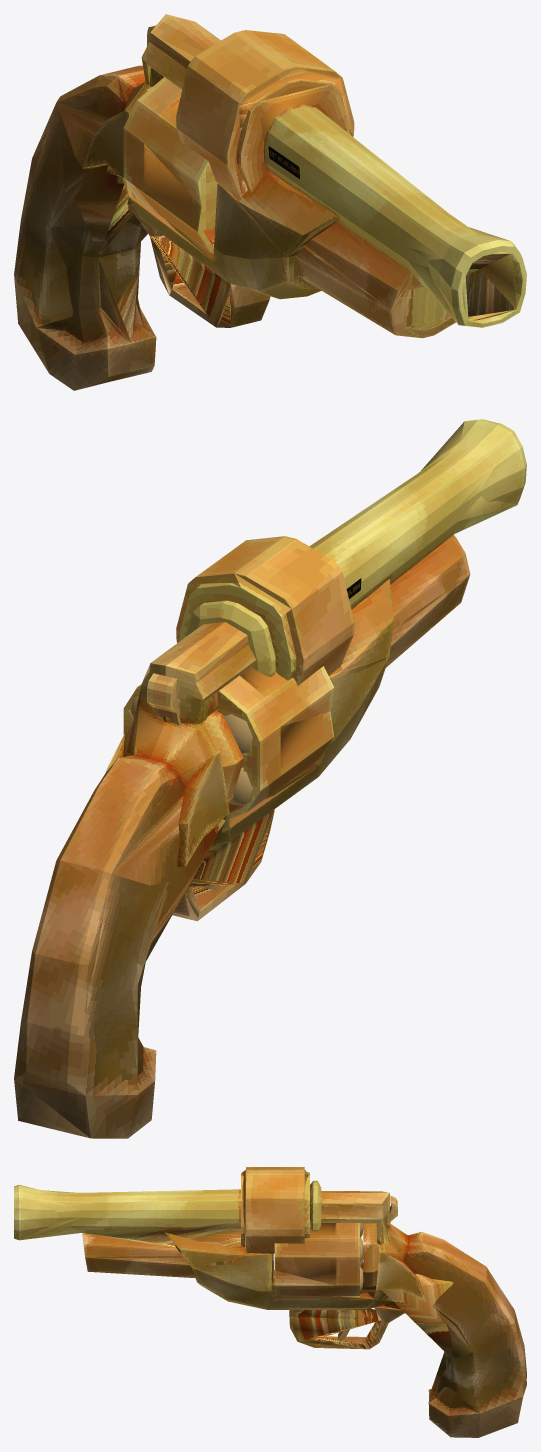
The model's file is item_revolver_gold.glb.
3 views of the same model, one above another, from view 1: azimuth 30°, elevation 25°; view 2: azimuth 150°, elevation 25°; view 3: azimuth 270°, elevation 25° (orthographic). The views are drawn at different scales.
Visible parts, largest first — view 1: RevolverMain, RevolverCylinder; view 2: RevolverMain, RevolverCylinder, RevolverHammer; view 3: RevolverMain, RevolverCylinder.
Part boxes in pixels (x1,y1,x2,y2): RevolverMain: (14, 14, 526, 390); RevolverCylinder: (123, 77, 217, 253); RevolverMain: (14, 419, 526, 1138); RevolverCylinder: (123, 666, 334, 818); RevolverHammer: (147, 673, 180, 725); RevolverMain: (14, 1167, 526, 1437); RevolverCylinder: (274, 1223, 379, 1297).
Bounding box in the file's own units: 0.0723 × 0.225 × 0.4096.
3 materials, 2 textured.
